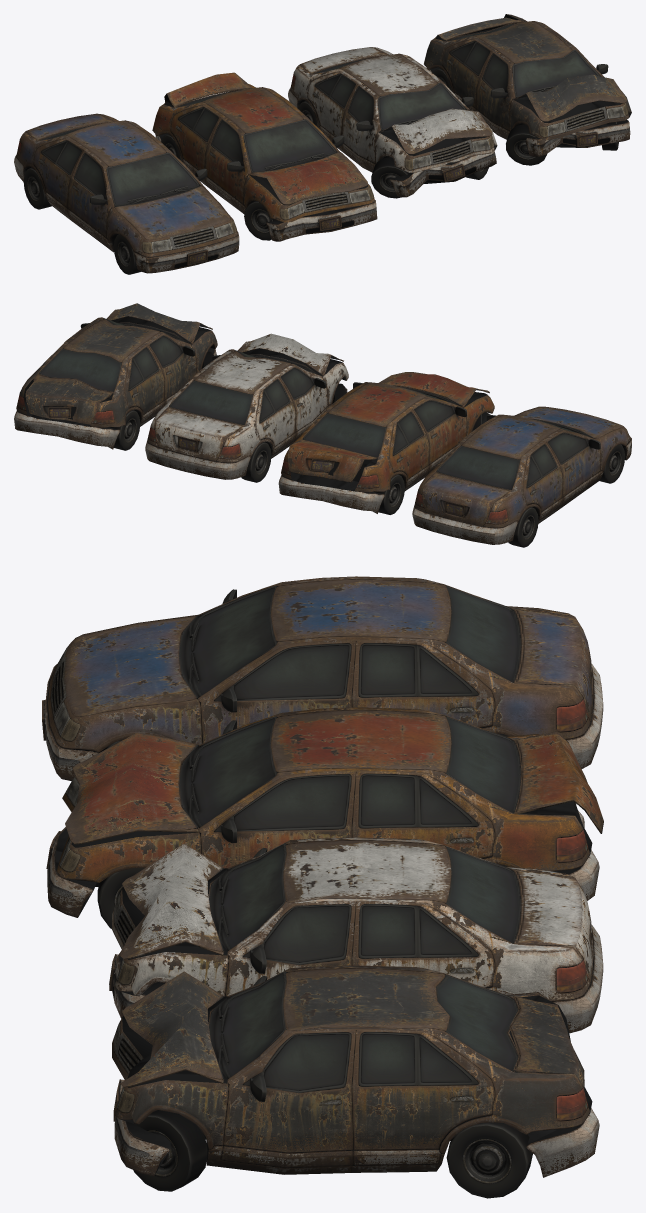
Rendered from RuinedCars.glb.
The picture shows the model from 3 angles, top to bottom: view 1: azimuth 30°, elevation 25°; view 2: azimuth 150°, elevation 25°; view 3: azimuth 270°, elevation 25°; orthographic projection. The views are drawn at different scales.
Parts seen in each view (by area): view 1: 003_Material #1005_0, 3_Material #1066_0, 1_Material #1067_0, Object001_Material #1068_0; view 2: 003_Material #1005_0, 3_Material #1066_0, 1_Material #1067_0, Object001_Material #1068_0; view 3: Object001_Material #1068_0, 3_Material #1066_0, 003_Material #1005_0, 1_Material #1067_0.
Boxes of the visible parts, x1,y1,x2,y2 form: 003_Material #1005_0: (14,113,239,274); 3_Material #1066_0: (152,72,377,241); 1_Material #1067_0: (288,47,497,198); Object001_Material #1068_0: (424,14,631,165); 003_Material #1005_0: (412,406,631,547); 3_Material #1066_0: (278,372,494,514); 1_Material #1067_0: (145,333,348,482); Object001_Material #1068_0: (14,303,217,450); Object001_Material #1068_0: (112,965,599,1198); 3_Material #1066_0: (46,707,603,928); 003_Material #1005_0: (42,576,603,780); 1_Material #1067_0: (109,837,603,1033).
Bounding box in the file's own units: 1024 × 151 × 487.
4 materials, 4 textured.
